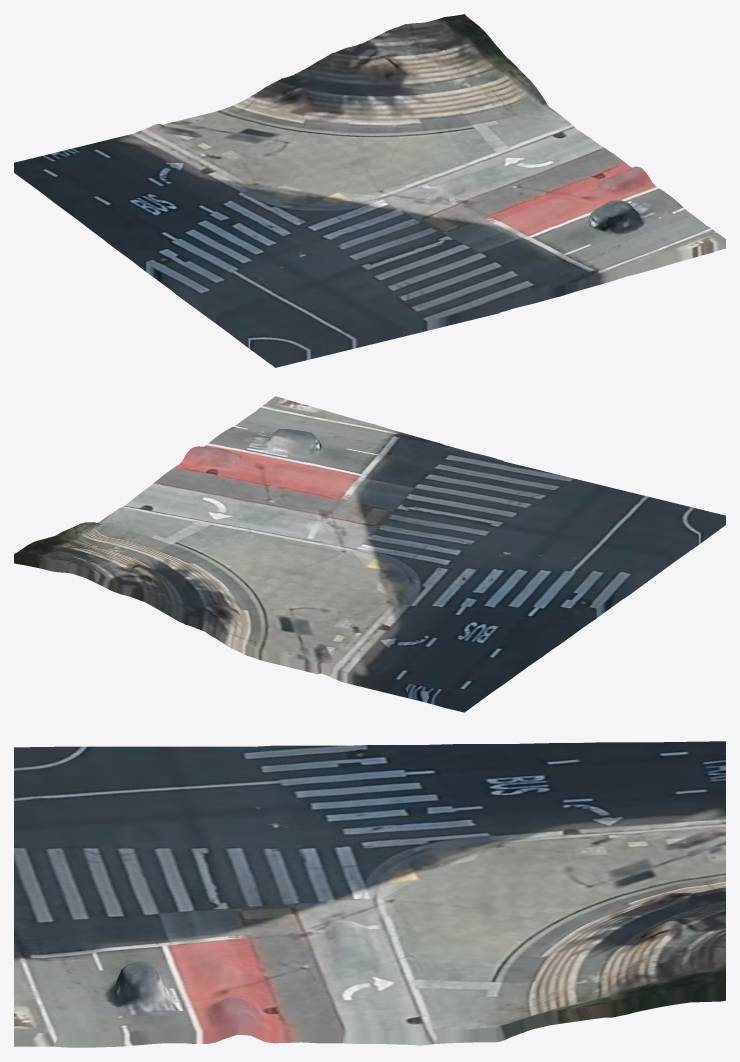
Rendered from z20-167752-405249-h0-yup-uvflip-v3-world.glb.
3 renders of one model, top to bottom at view 1: azimuth 30°, elevation 25°; view 2: azimuth 150°, elevation 25°; view 3: azimuth 270°, elevation 25°, orthographic. The views are drawn at different scales.
Size of the model in its own units: 30.16 by 3.64 by 30.32.
Materials: 1 (1 with a texture image).
